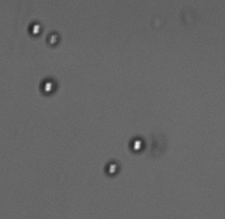Living Cell: (102, 157, 123, 178), (38, 76, 59, 96), (128, 134, 146, 155), (27, 20, 43, 38), (46, 30, 62, 46)
